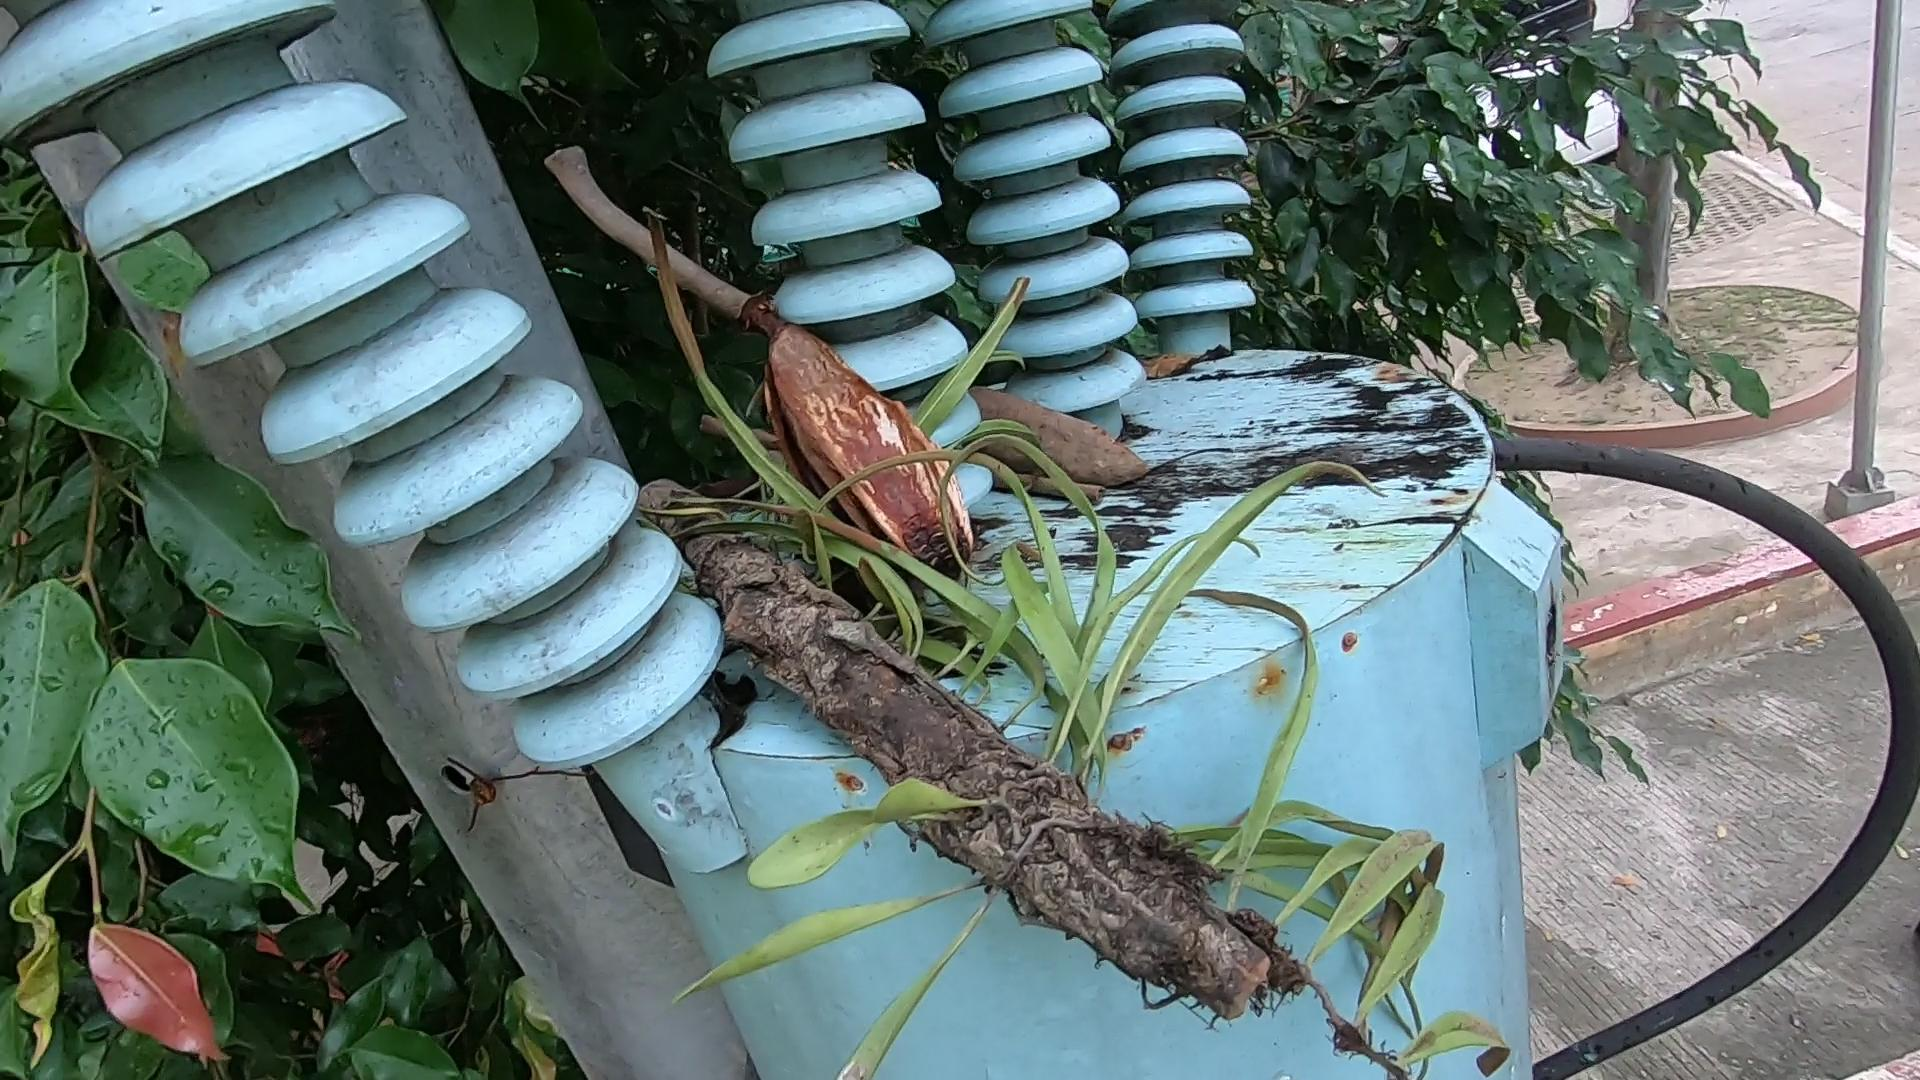branch with leaves: (647, 483, 1302, 1019)
leaf: (1133, 340, 1245, 388)
mahogany fruit: (671, 302, 1007, 578), (963, 371, 1143, 501)
tree branch: (531, 103, 749, 344), (972, 462, 1093, 520)
